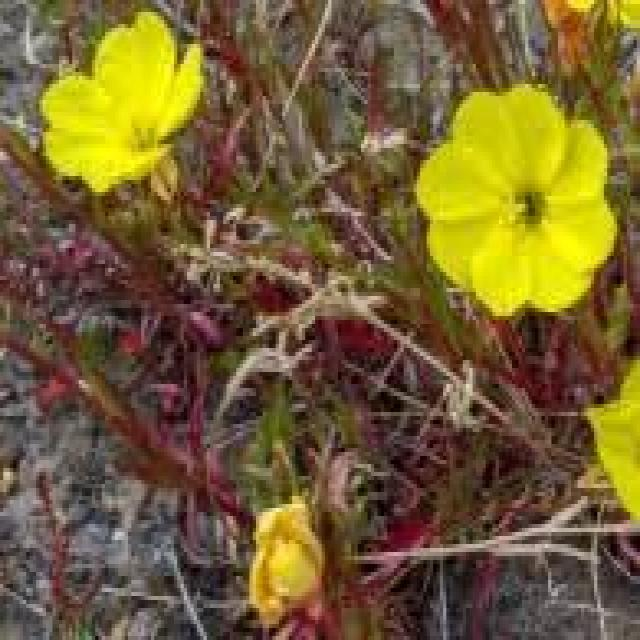organic waste: (410, 78, 624, 310), (36, 14, 210, 210), (236, 486, 332, 626)
